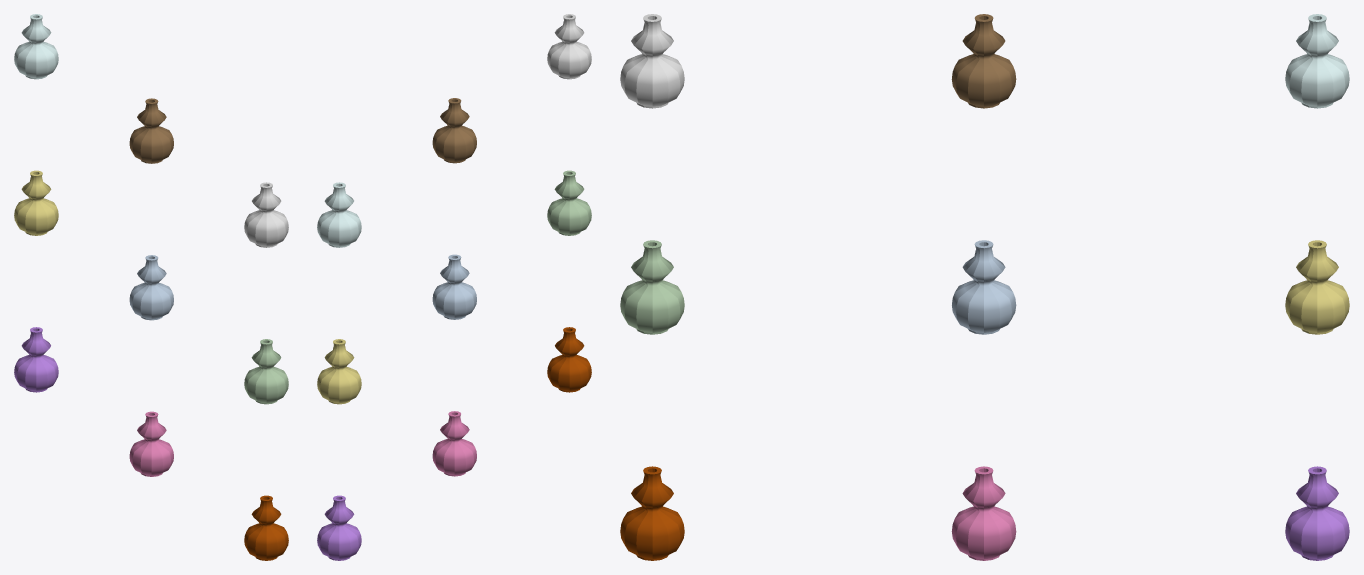
Rendered from vase_6.fbx.
3 renders of one model, left to right at view 1: azimuth 30°, elevation 25°; view 2: azimuth 150°, elevation 25°; view 3: azimuth 270°, elevation 25°, orthographic. The views are drawn at different scales.
Parts seen in each view (by area): view 1: pCylinder212, pCylinder221, pCylinder176, pCylinder203, pCylinder194, pCylinder230, pCylinder185, pCylinder239, pCylinder167; view 2: pCylinder194, pCylinder239, pCylinder230, pCylinder203, pCylinder221, pCylinder212, pCylinder167, pCylinder185, pCylinder176; view 3: pCylinder212, pCylinder239, pCylinder194, pCylinder221, pCylinder176, pCylinder185, pCylinder203, pCylinder230, pCylinder167.
Boxes of the visible parts, x1,y1,x2,y2 form: pCylinder212: [244, 495, 288, 560]; pCylinder221: [14, 170, 58, 235]; pCylinder176: [129, 98, 173, 163]; pCylinder203: [244, 182, 288, 247]; pCylinder194: [244, 339, 288, 404]; pCylinder230: [14, 14, 58, 79]; pCylinder185: [129, 411, 173, 476]; pCylinder239: [14, 327, 58, 392]; pCylinder167: [129, 255, 173, 320]; pCylinder194: [547, 170, 591, 235]; pCylinder239: [317, 495, 361, 560]; pCylinder230: [317, 182, 361, 247]; pCylinder203: [547, 14, 591, 79]; pCylinder221: [317, 339, 361, 404]; pCylinder212: [547, 327, 591, 392]; pCylinder167: [432, 254, 476, 319]; pCylinder185: [432, 411, 476, 476]; pCylinder176: [432, 98, 476, 163]; pCylinder212: [620, 466, 684, 560]; pCylinder239: [1285, 466, 1349, 560]; pCylinder194: [620, 240, 684, 334]; pCylinder221: [1285, 240, 1349, 334]; pCylinder176: [951, 14, 1016, 108]; pCylinder185: [951, 466, 1016, 560]; pCylinder203: [620, 14, 684, 108]; pCylinder230: [1285, 14, 1349, 108]; pCylinder167: [952, 240, 1016, 334].
Bounding box in the file's own units: 2.33 × 21.32 × 26.3.
